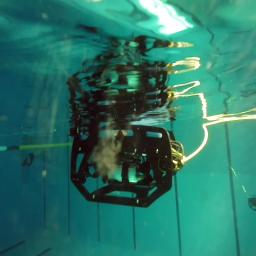Side: (69, 125, 185, 210)
